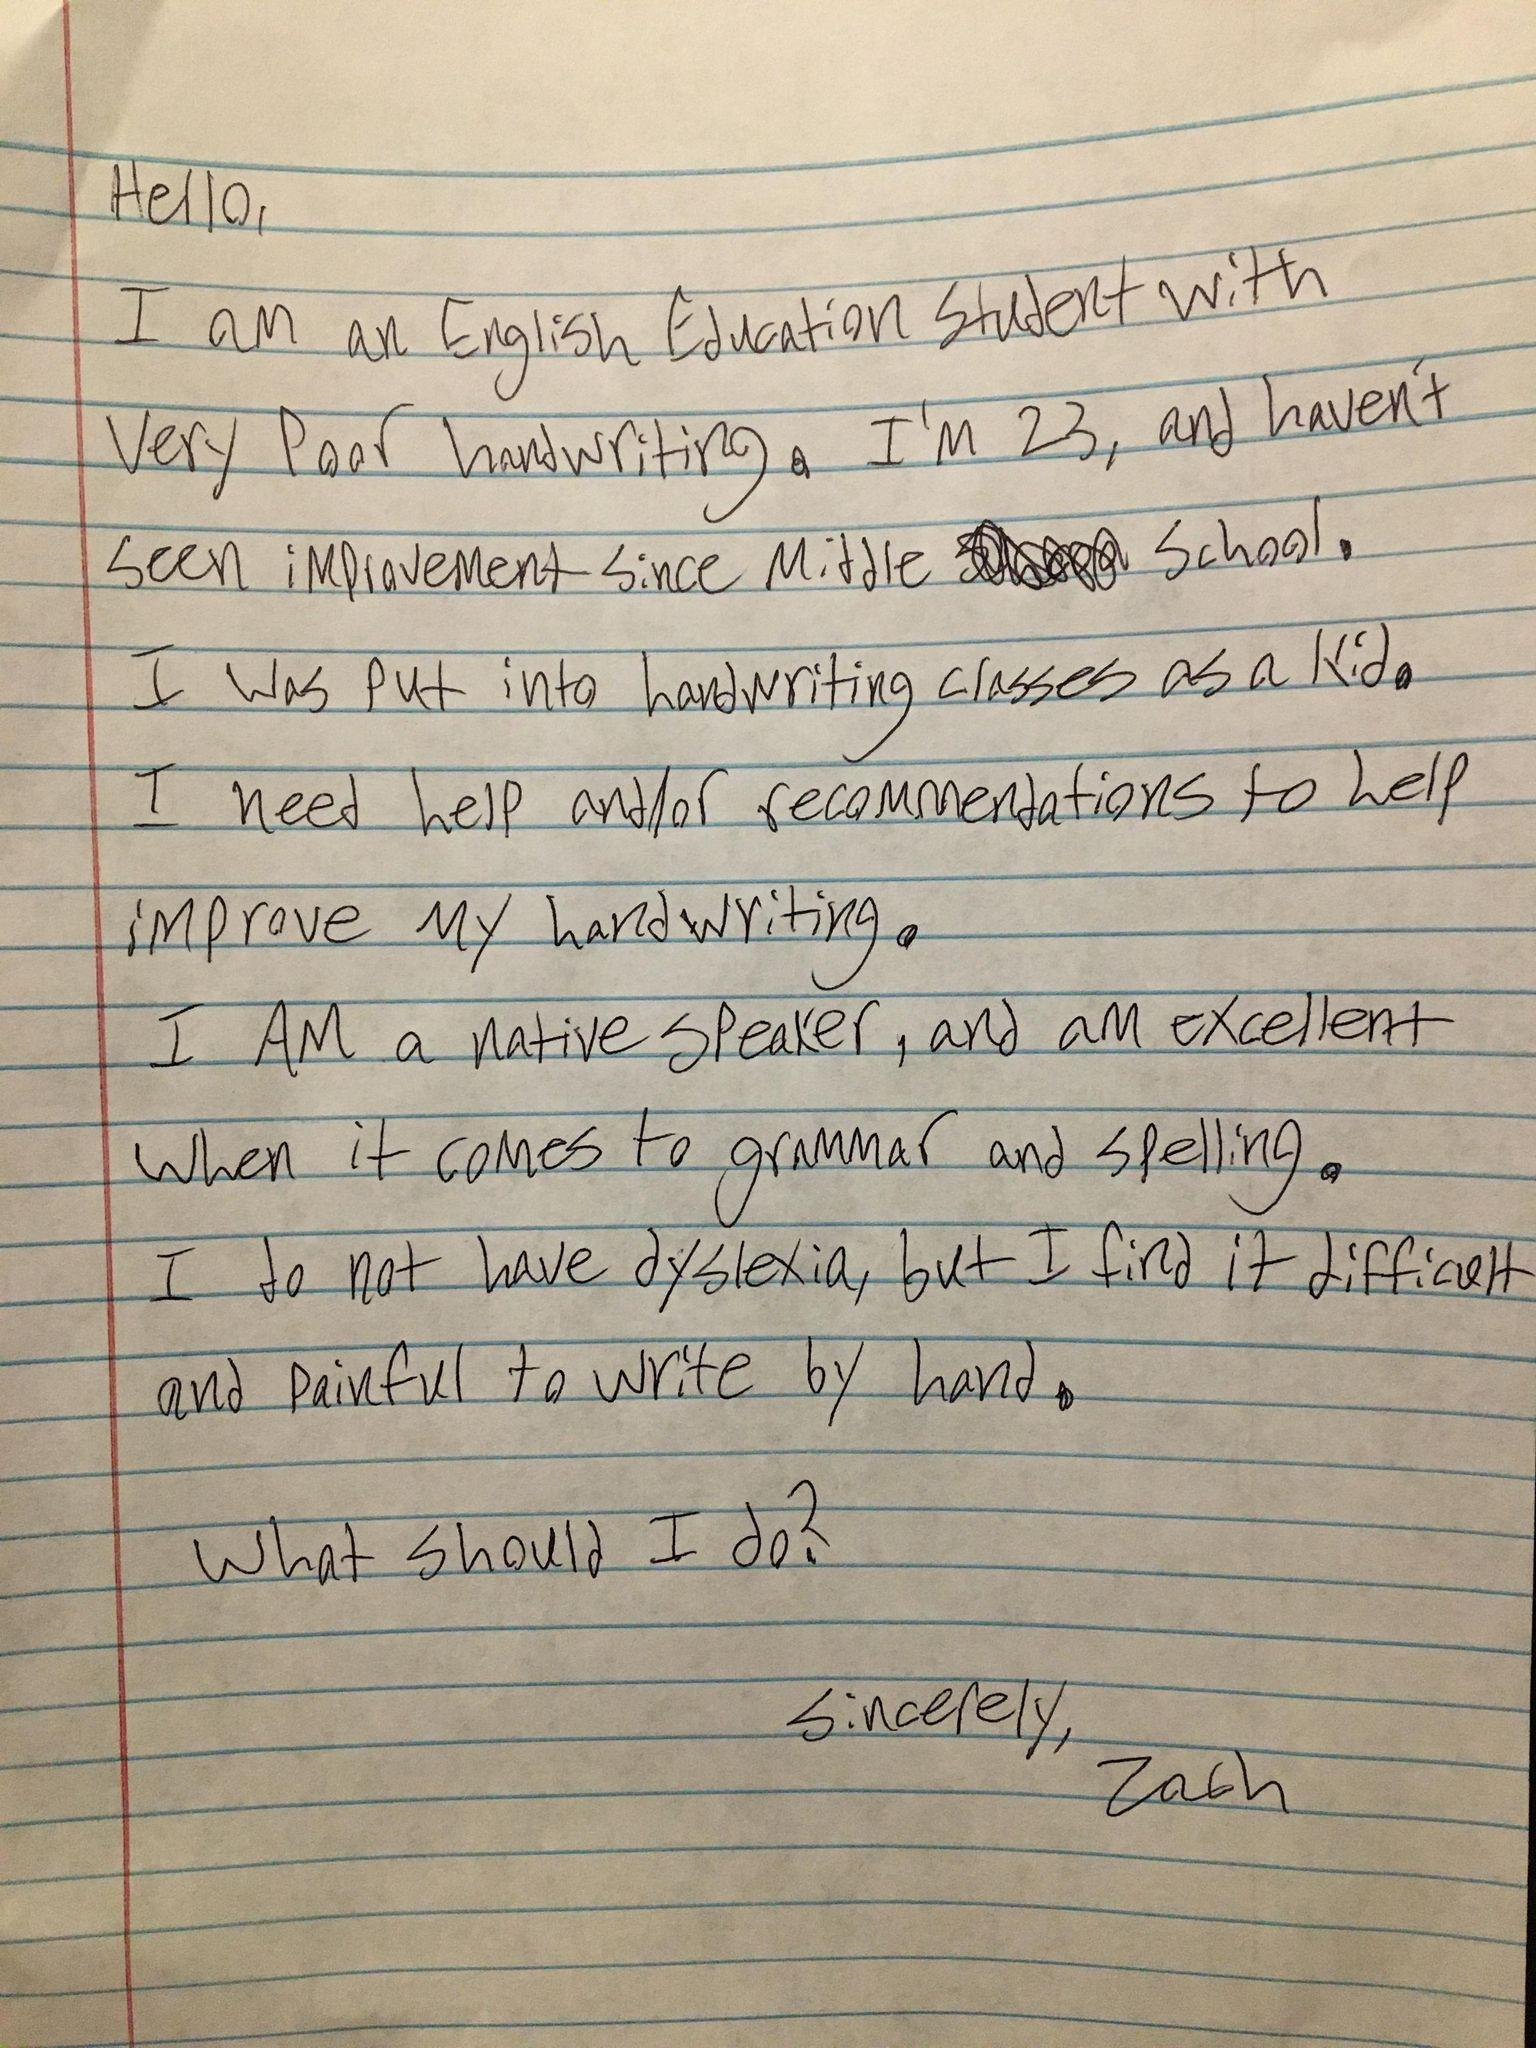text: (97, 350, 1457, 524), (113, 234, 1333, 410), (119, 613, 1420, 769), (127, 1097, 1344, 1237), (116, 740, 1476, 850), (94, 487, 1357, 603), (144, 1227, 1536, 1330), (140, 980, 1460, 1084), (147, 1324, 1079, 1440), (110, 866, 929, 997), (184, 1471, 837, 1600), (776, 1674, 1079, 1771), (1083, 1740, 1304, 1821), (100, 153, 273, 244)
